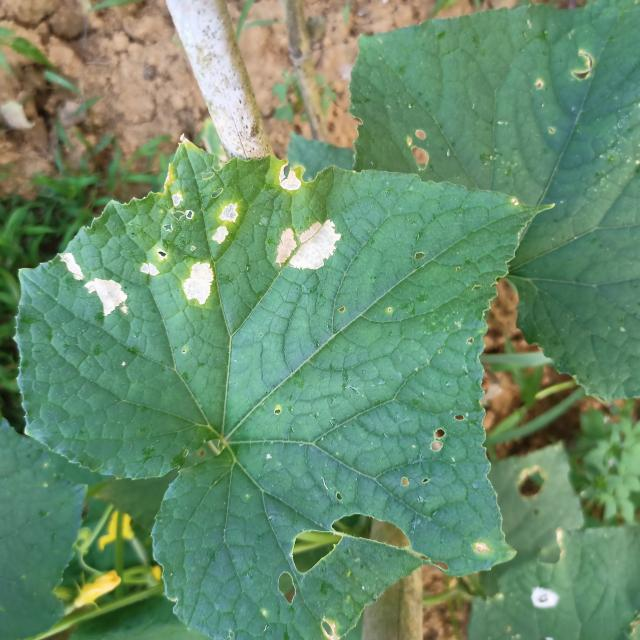disease_cucumber: (138, 191, 244, 309), (55, 250, 134, 326), (262, 211, 346, 281), (266, 160, 308, 200)
